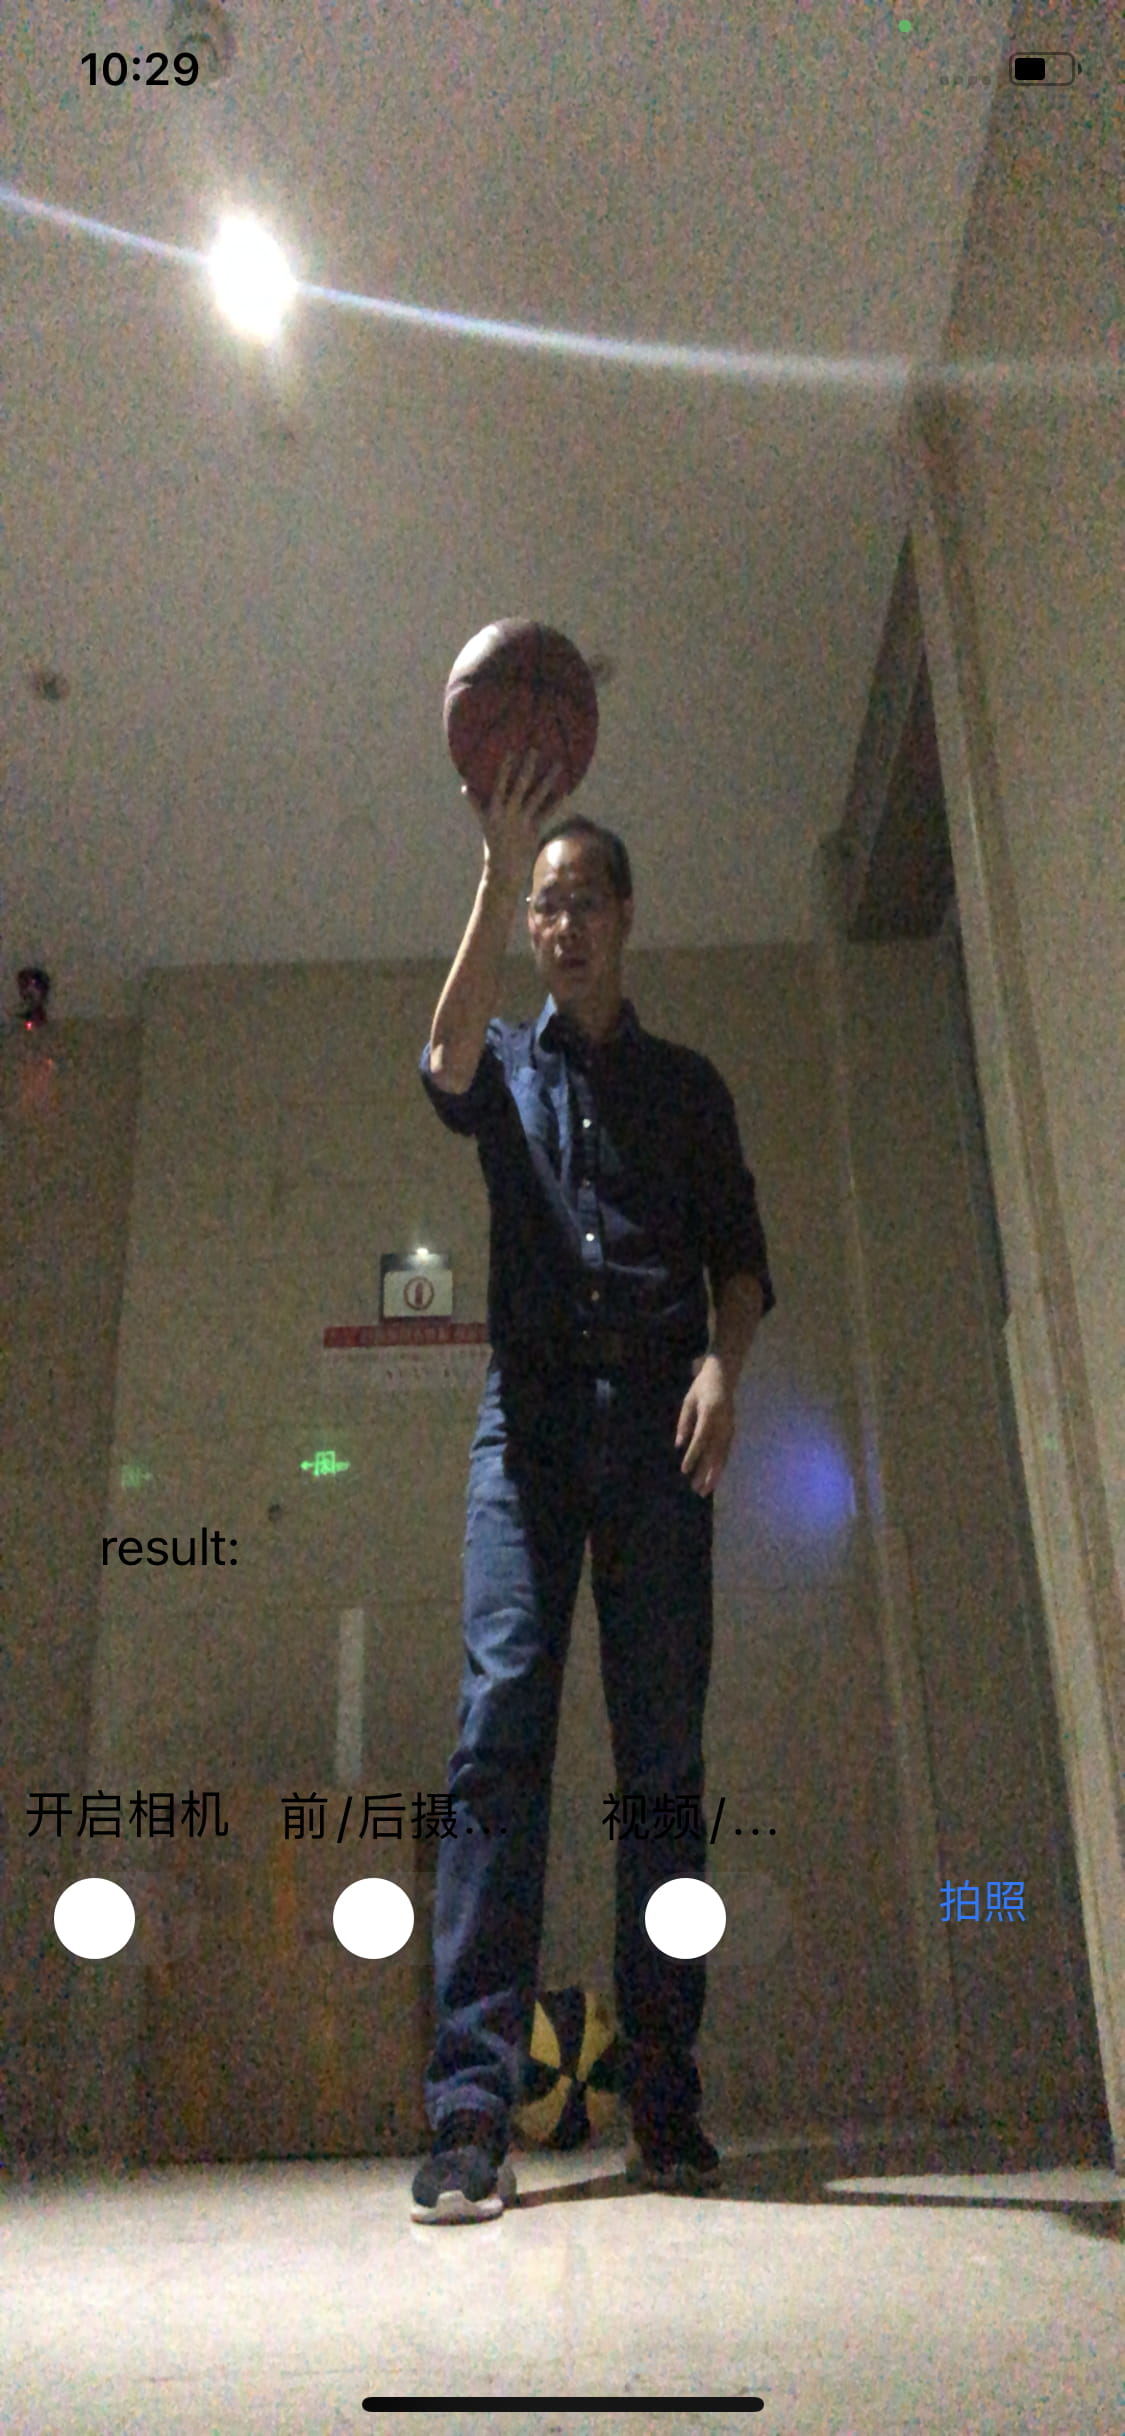ball: (443, 617, 597, 809)
